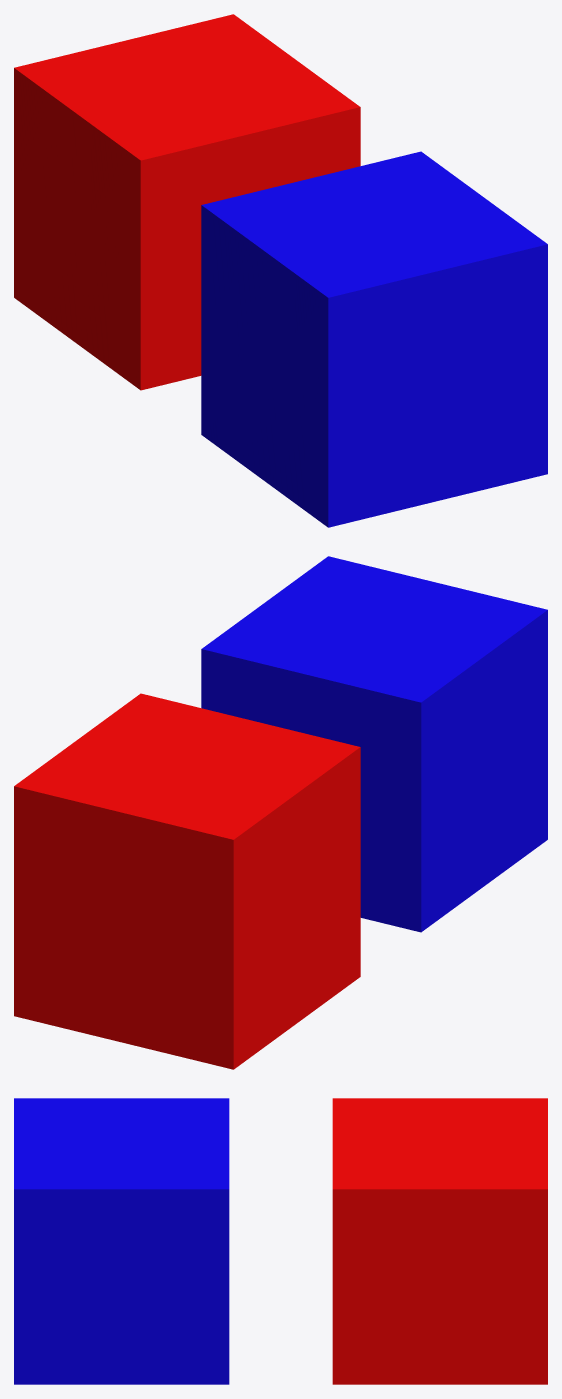
Rendered from Boxes.obj.
The picture shows the model from 3 angles, top to bottom: view 1: azimuth 30°, elevation 25°; view 2: azimuth 150°, elevation 25°; view 3: azimuth 270°, elevation 25°; orthographic projection. The views are drawn at different scales.
Visible parts, largest first — view 1: BlueBox, RedBox; view 2: RedBox, BlueBox; view 3: RedBox, BlueBox.
Boxes of the visible parts, <box> form: BlueBox: <box>201,151,547,527</box>; RedBox: <box>14,14,360,390</box>; RedBox: <box>14,693,360,1069</box>; BlueBox: <box>201,556,547,932</box>; RedBox: <box>332,1098,547,1384</box>; BlueBox: <box>14,1098,229,1384</box>.
Bounding box in the file's own units: 1 × 1 × 2.48.
